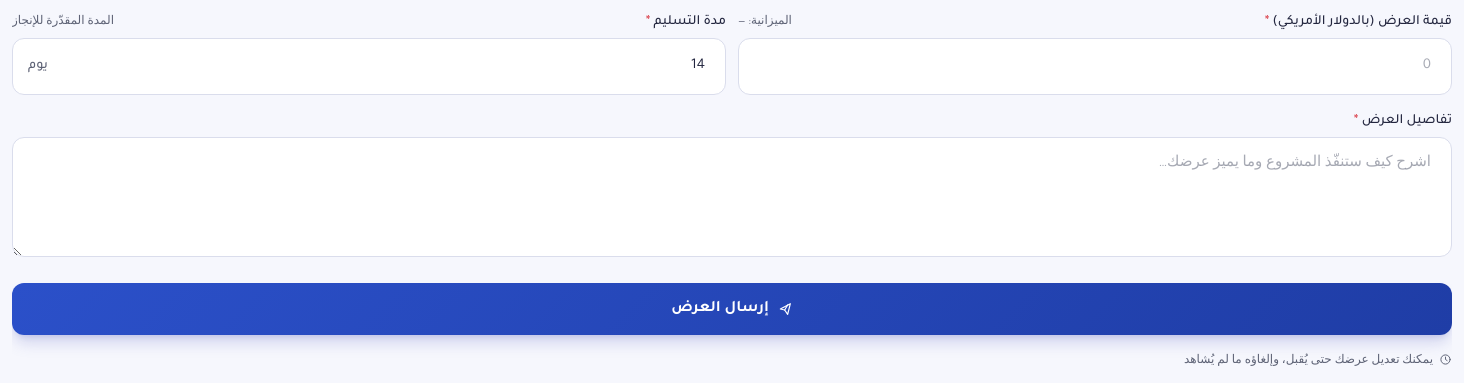
Scenario: ProposalForm — success state › replaces the form with a success card linking to my proposals
The width and height of the screenshot is (1464, 383).
Type "150" into the field labelled "قيمة العرض (بالدولار الأمريكي) * الميزانية: —".
click(1095, 66); type("150")  # box [738,38,1452,94]
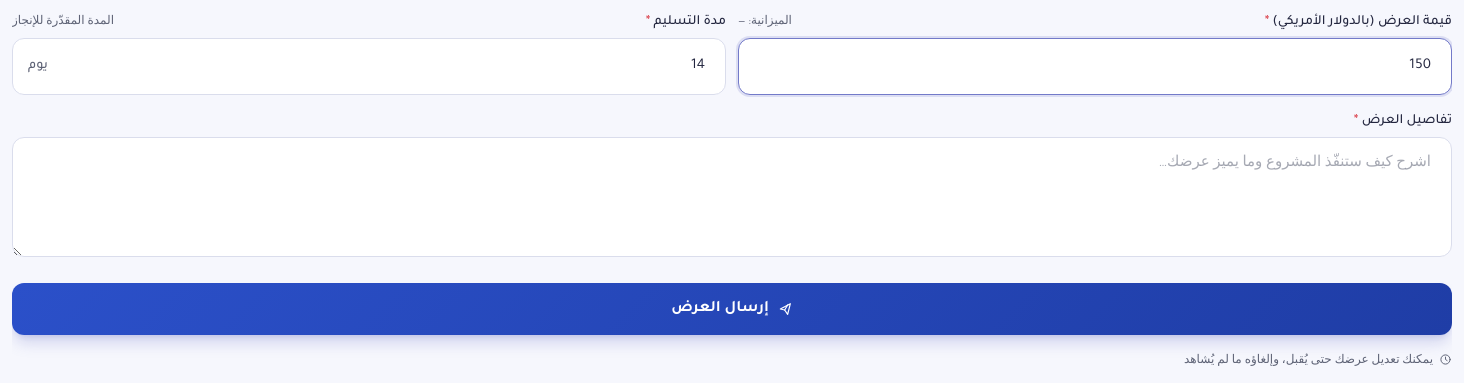
Type "خطة العمل" into the text box labelled "تفاصيل العرض *".
click(732, 196); type("خطة العمل")  # box [12,136,1452,256]
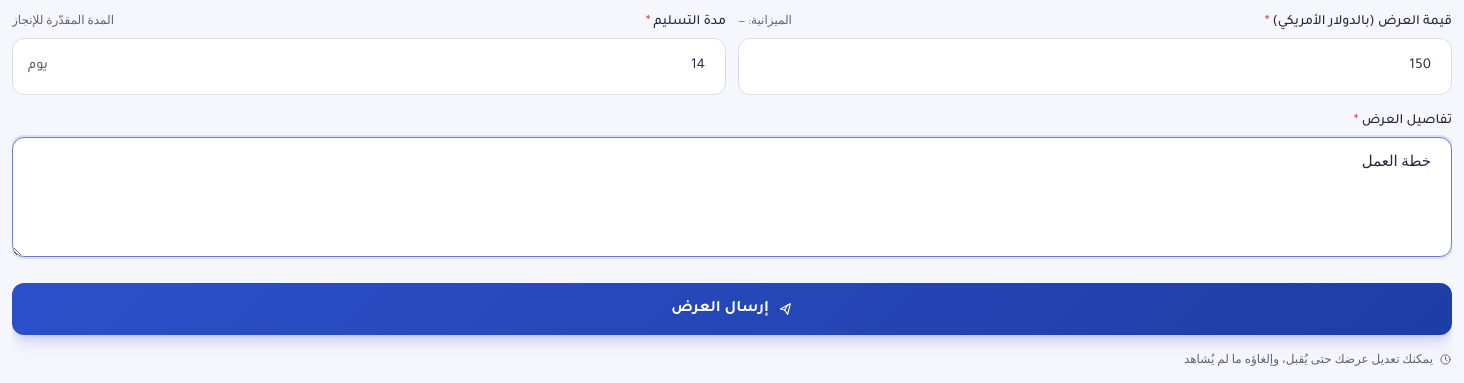
Click the button "إرسال العرض".
click(732, 308)  # box [12,282,1452,334]
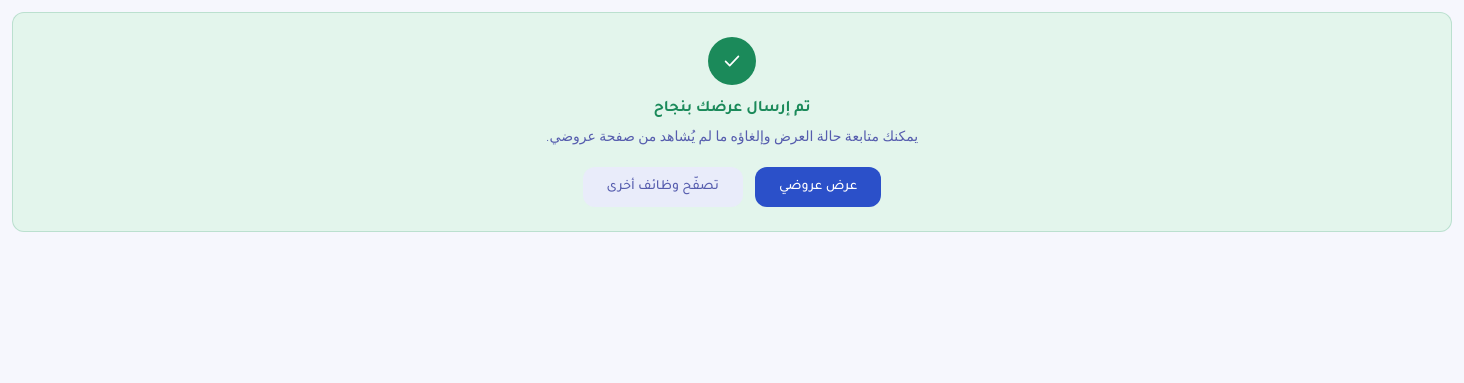
Now the field labelled "قيمة العرض" is gone
